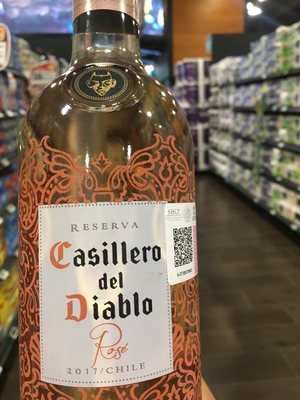casillero del diablo rose: (15, 19, 216, 400)
